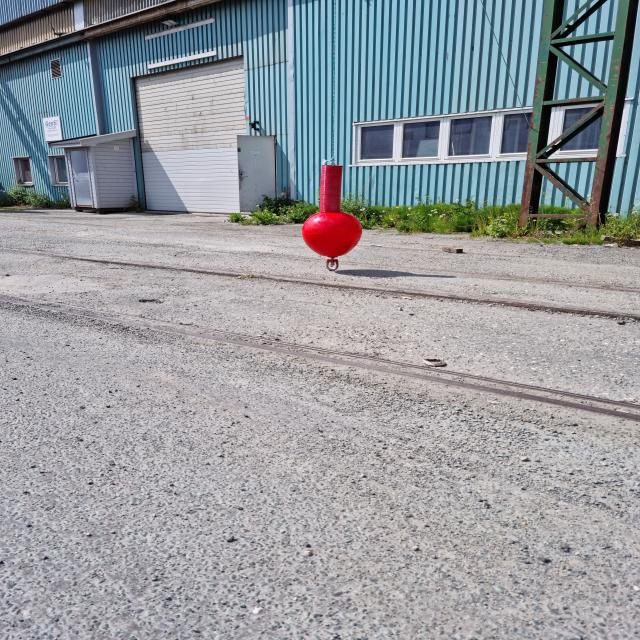red: (301, 166, 362, 257)
